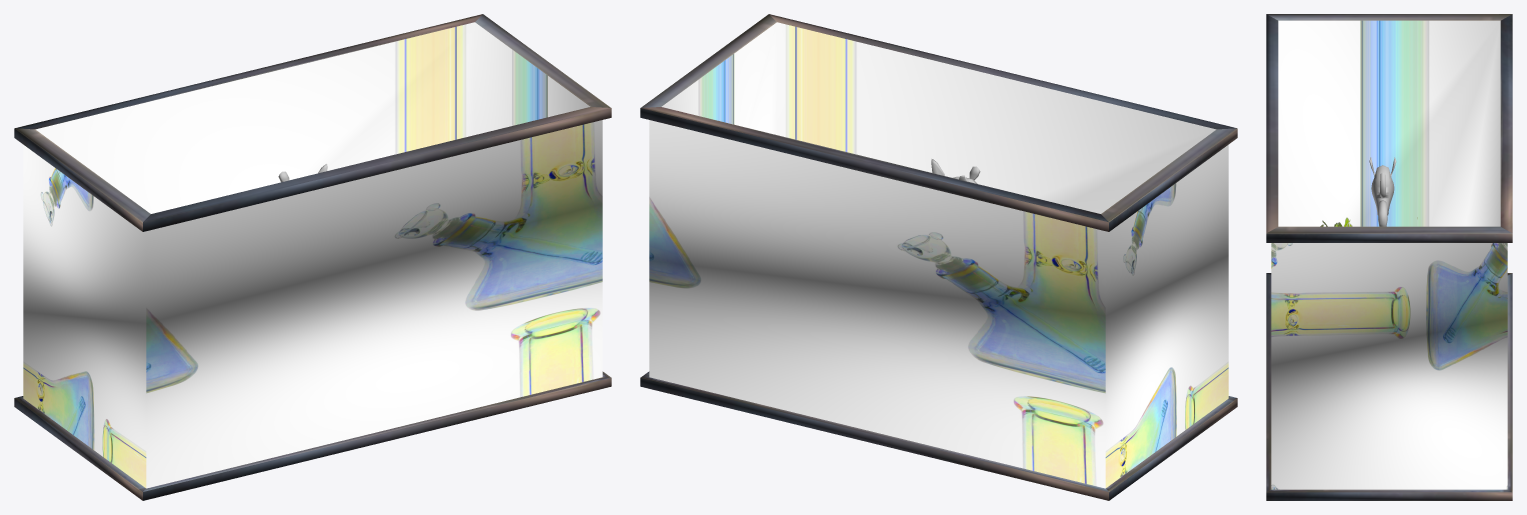
The model's file is aquarium.FBX.
3 views of the same model, side by side, from view 1: azimuth 30°, elevation 25°; view 2: azimuth 150°, elevation 25°; view 3: azimuth 270°, elevation 25° (orthographic). The views are drawn at different scales.
Visible parts, largest first — view 1: aquarium; view 2: aquarium; view 3: aquarium, bob.
Part boxes in pixels (x1=…): aquarium: x1=14, y1=14, x2=611, y2=500; aquarium: x1=640, y1=14, x2=1237, y2=500; aquarium: x1=1266, y1=14, x2=1512, y2=500; bob: x1=1369, y1=157, x2=1396, y2=226.
Bounding box in the file's own units: 43.49 × 24.71 × 20.65.
